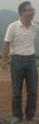boots: (10, 116, 21, 124), (1, 1, 1, 1)
ppe-suit: (0, 0, 1, 1)
